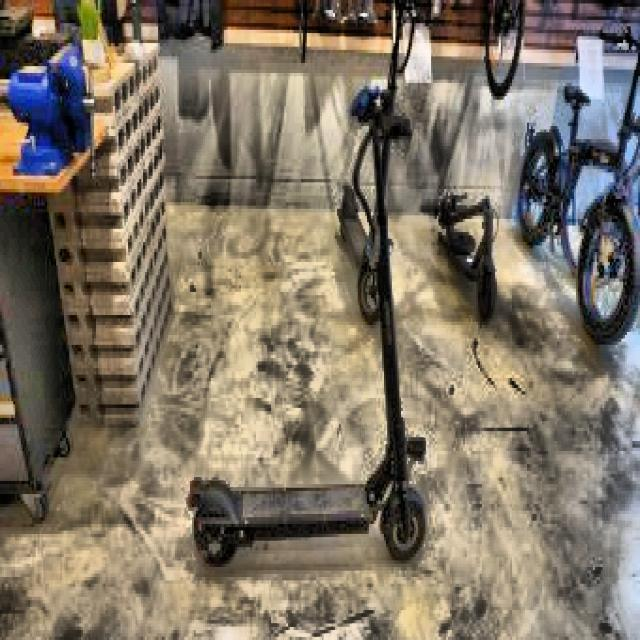bike: (517, 23, 640, 345)
